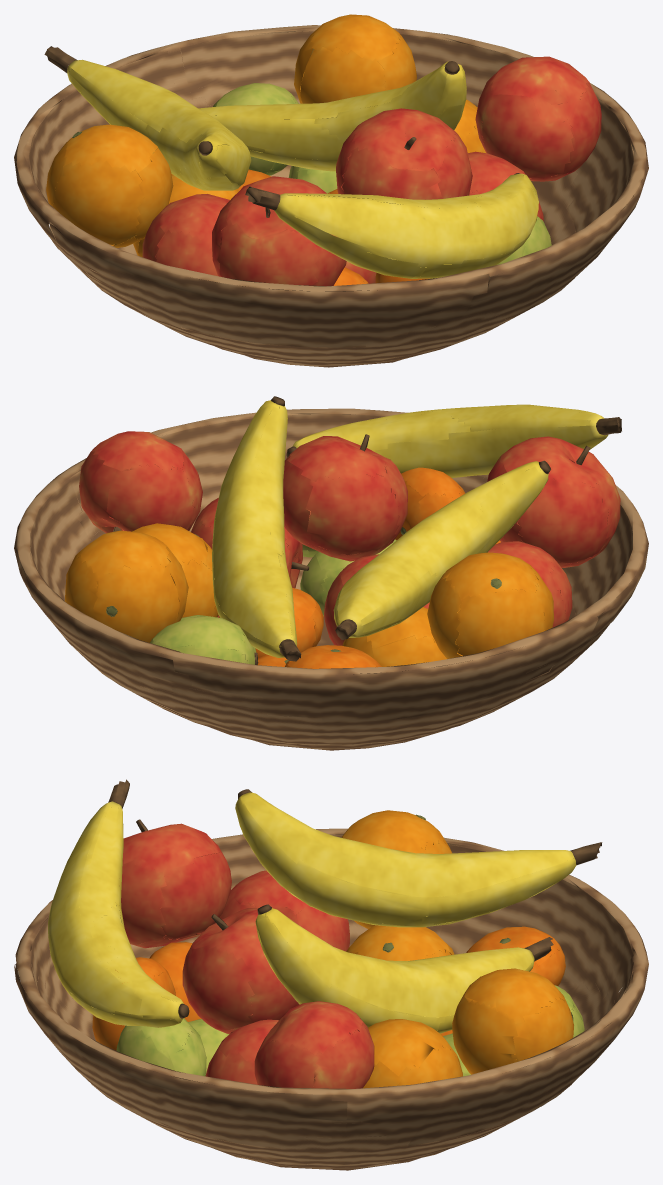
Rendered from frutero.gltf.
3 views of the same model, one above another, from view 1: azimuth 30°, elevation 25°; view 2: azimuth 150°, elevation 25°; view 3: azimuth 270°, elevation 25° (orthographic).
Parts seen in each view (by area): view 1: cuenco_madera, platano_suelto_3, manzana.003, naranja.003, platano_suelto_2, platano_suelto_1, manzana.005, manzana.004, naranja.002, manzana.001, guayaba.002, manzana (+4 smaller); view 2: cuenco_madera, platano_suelto_2, platano_suelto_1, platano_suelto_3, manzana.005, manzana.004, naranja.003, naranja.002, manzana.003, guayaba.002, naranja, naranja.001 (+7 smaller); view 3: cuenco_madera, platano_suelto_1, platano_suelto_3, platano_suelto_2, manzana.004, naranja.002, manzana.005, manzana.003, naranja, manzana.001, guayaba.003, naranja.003 (+6 smaller).
Boxes of the visible parts, x1,y1,x2,y2 form: cuenco_madera: (14, 25, 648, 367); platano_suelto_3: (245, 173, 538, 278); manzana.003: (475, 56, 601, 181); naranja.003: (46, 124, 173, 247); platano_suelto_2: (198, 61, 466, 171); platano_suelto_1: (44, 46, 251, 190); manzana.005: (336, 108, 472, 199); manzana.004: (212, 176, 346, 286); naranja.002: (294, 14, 416, 103); manzana.001: (142, 194, 229, 275); guayaba.002: (213, 83, 298, 175); manzana: (468, 151, 543, 221); cuenco_madera: (14, 408, 648, 750); platano_suelto_2: (212, 396, 301, 661); platano_suelto_1: (333, 460, 550, 639); platano_suelto_3: (286, 404, 621, 477); manzana.005: (283, 434, 407, 561); manzana.004: (487, 436, 620, 567); naranja.003: (427, 552, 553, 658); naranja.002: (64, 530, 188, 642); manzana.003: (79, 431, 202, 533); guayaba.002: (150, 616, 258, 665); naranja: (132, 523, 218, 617); naranja.001: (342, 607, 446, 666); cuenco_madera: (14, 828, 648, 1170); platano_suelto_1: (235, 789, 602, 927); platano_suelto_3: (48, 779, 189, 1027); platano_suelto_2: (255, 904, 553, 1033); manzana.004: (121, 819, 231, 948); naranja.002: (452, 968, 573, 1074); manzana.005: (182, 908, 299, 1033); manzana.003: (254, 1001, 374, 1088); naranja: (363, 1019, 462, 1088); manzana.001: (214, 870, 349, 951); guayaba.003: (116, 1018, 206, 1076); naranja.003: (341, 810, 451, 928).
Bounding box in the file's own units: 0.3327 × 0.1406 × 0.3326.
Materials: 8 (8 with a texture image).
